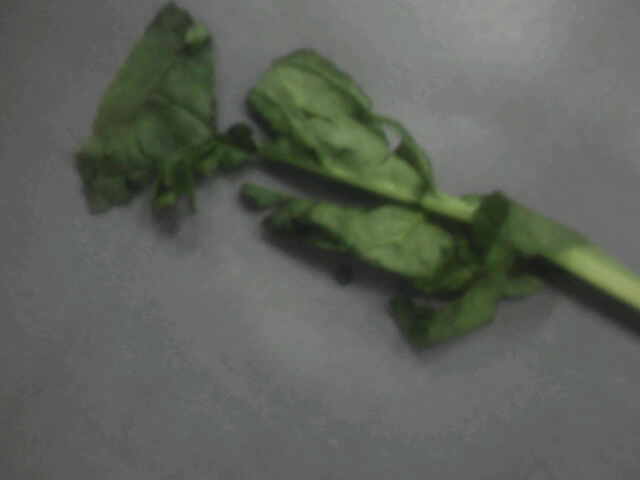yellow: (91, 8, 552, 337)
